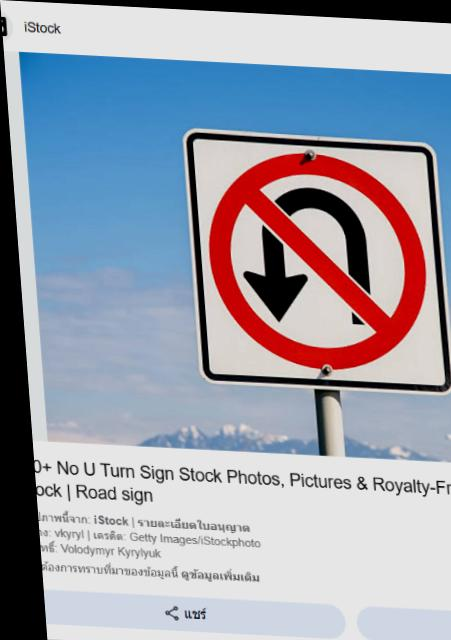not_u_turn_left: (191, 135, 439, 373)
